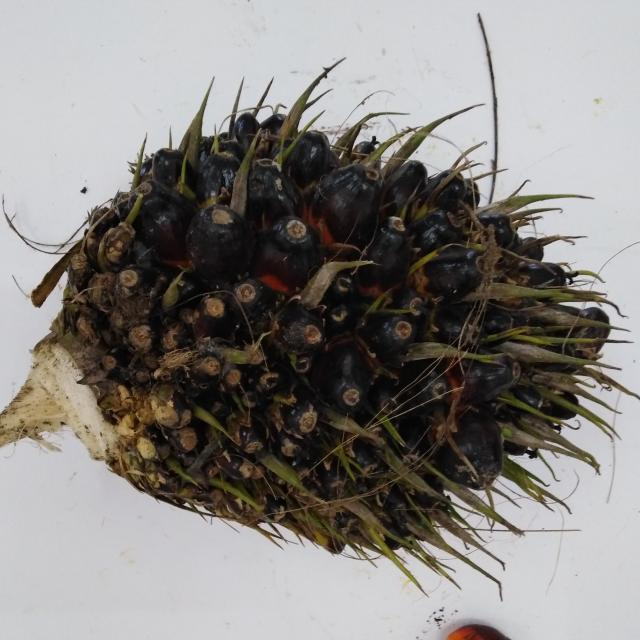FFB: (70, 108, 562, 554)
